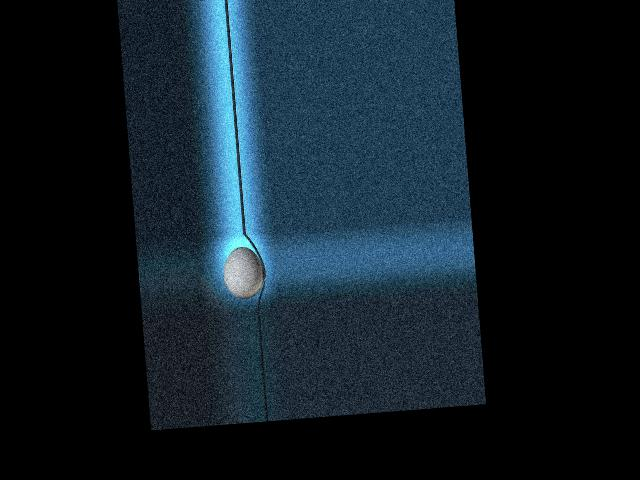egg: (222, 245, 265, 300)
